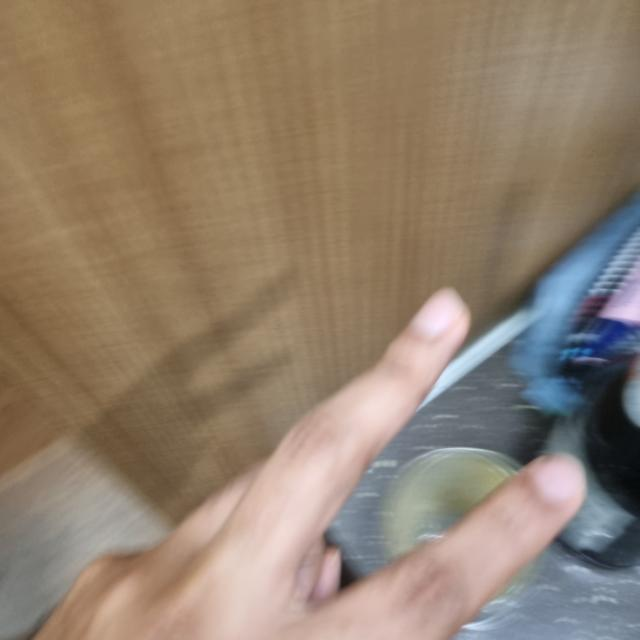Scissors: (1, 284, 587, 639)
